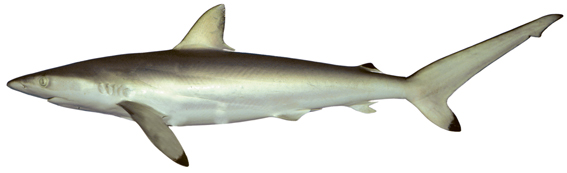fish: (6, 5, 563, 168)
